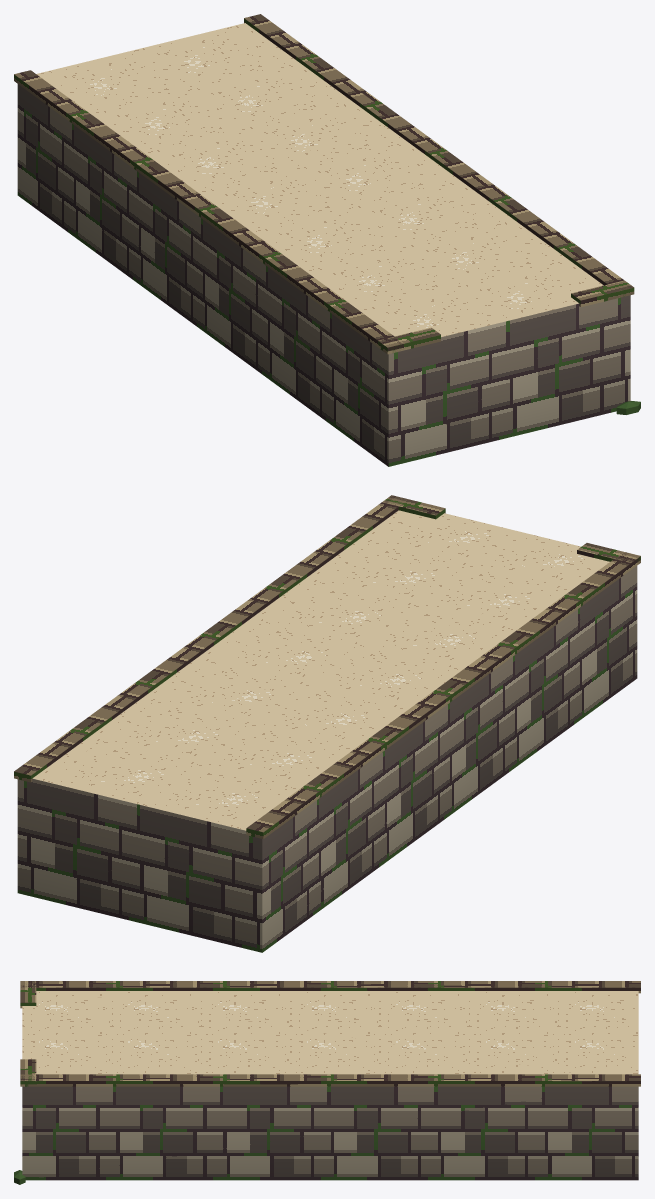
File: scene_bridge_b7.glb
3 renders of one model, top to bottom at view 1: azimuth 30°, elevation 25°; view 2: azimuth 150°, elevation 25°; view 3: azimuth 270°, elevation 25°, orthographic. The views are drawn at different scales.
Parts seen in each view (by area): view 1: scene_bridge_b7; view 2: scene_bridge_b7; view 3: scene_bridge_b7.
Part boxes in pixels (x1=…): scene_bridge_b7: x1=14, y1=14, x2=640, y2=466; scene_bridge_b7: x1=14, y1=495, x2=640, y2=952; scene_bridge_b7: x1=14, y1=981, x2=640, y2=1184.
Size of the model in its own units: 5.44 by 2.57 by 14.04.
Materials: 3 (2 with a texture image).
